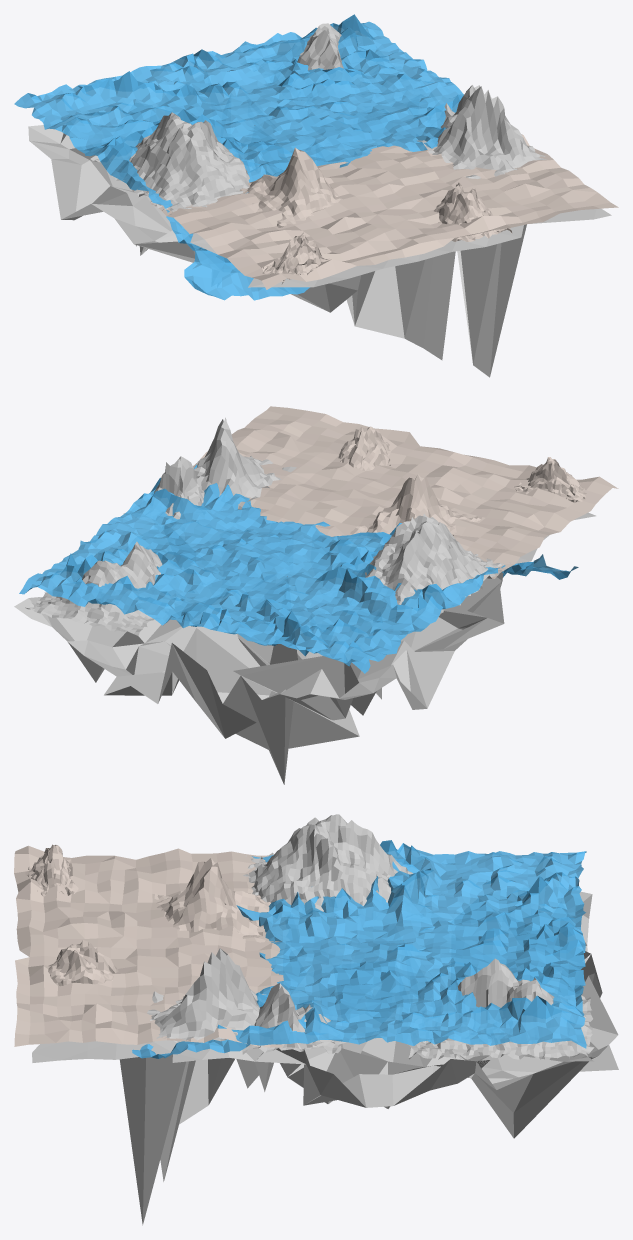
Rendered from SeaCoastIced.dae.
3 renders of one model, top to bottom at view 1: azimuth 30°, elevation 25°; view 2: azimuth 150°, elevation 25°; view 3: azimuth 270°, elevation 25°, orthographic. The views are drawn at different scales.
Parts seen in each view (by area): view 1: Null (×5), Landschaft.1, Landschaft.3, Landschaft.2, Landschaft.4; view 2: Null (×5), Landschaft.1, Landschaft.3, Landschaft.2, Landschaft.4, Landschaft; view 3: Null (×5), Landschaft.1, Landschaft.3, Landschaft, Landschaft.2, Landschaft.4.
Part boxes in pixels (bbox=[...]): Null (×5): bbox=[14, 14, 618, 377]; Landschaft.1: bbox=[417, 86, 546, 178]; Landschaft.3: bbox=[239, 147, 342, 227]; Landschaft.2: bbox=[434, 182, 512, 241]; Landschaft.4: bbox=[260, 232, 330, 283]; Null (×5): bbox=[14, 406, 618, 784]; Landschaft.1: bbox=[194, 417, 296, 509]; Landschaft.3: bbox=[339, 474, 482, 536]; Landschaft.2: bbox=[338, 426, 391, 470]; Landschaft.4: bbox=[514, 457, 586, 502]; Landschaft: bbox=[123, 456, 204, 519]; Null (×5): bbox=[14, 814, 618, 1225]; Landschaft.1: bbox=[146, 948, 265, 1044]; Landschaft.3: bbox=[154, 858, 282, 942]; Landschaft: bbox=[242, 983, 346, 1054]; Landschaft.2: bbox=[48, 940, 118, 986]; Landschaft.4: bbox=[25, 844, 78, 896].
Size of the model in its own units: 55115 by 36251 by 68073.
